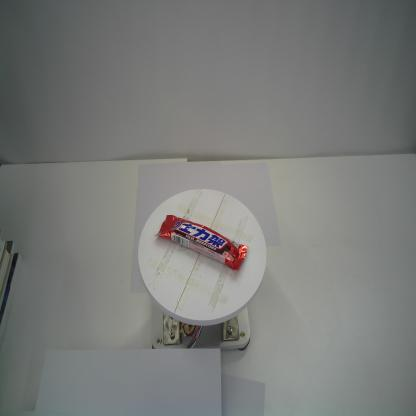Chocolate: (154, 214, 248, 271)
